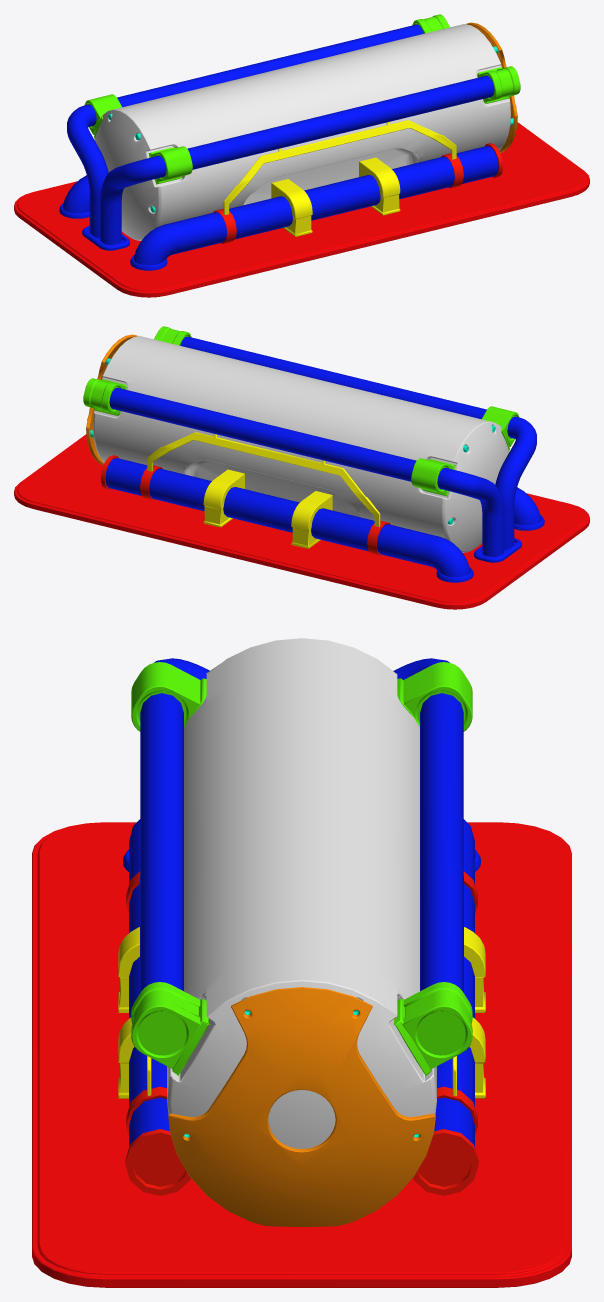
Rendered from ScifiProps_Generator01.fbx.
The picture shows the model from 3 angles, top to bottom: view 1: azimuth 30°, elevation 25°; view 2: azimuth 150°, elevation 25°; view 3: azimuth 270°, elevation 25°; orthographic projection. The views are drawn at different scales.
Visible parts, largest first — view 1: TankCylinder, TankSupport, TankPipesBottom; view 2: TankCylinder, TankSupport, TankPipesBottom; view 3: TankSupport, TankCylinder, TankPipesBottom.
Part boxes in pixels (left/top/right/bottom): TankCylinder: left=94, top=24, right=510, bottom=240; TankSupport: left=14, top=14, right=589, bottom=297; TankPipesBottom: left=62, top=24, right=503, bottom=265; TankCylinder: left=93, top=336, right=509, bottom=552; TankSupport: left=14, top=326, right=589, bottom=609; TankPipesBottom: left=100, top=336, right=541, bottom=577; TankSupport: left=32, top=662, right=571, bottom=1287; TankCylinder: left=167, top=638, right=436, bottom=1148; TankPipesBottom: left=125, top=658, right=478, bottom=1195.
Size of the model in its own units: 1600 by 410 by 800.
